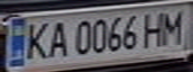0: (90, 16, 112, 55), (72, 17, 93, 56)
6: (121, 12, 145, 51), (106, 14, 127, 53)
A: (45, 18, 72, 58)
H: (139, 9, 172, 48)
K: (21, 18, 51, 61)
M: (157, 7, 190, 46)
